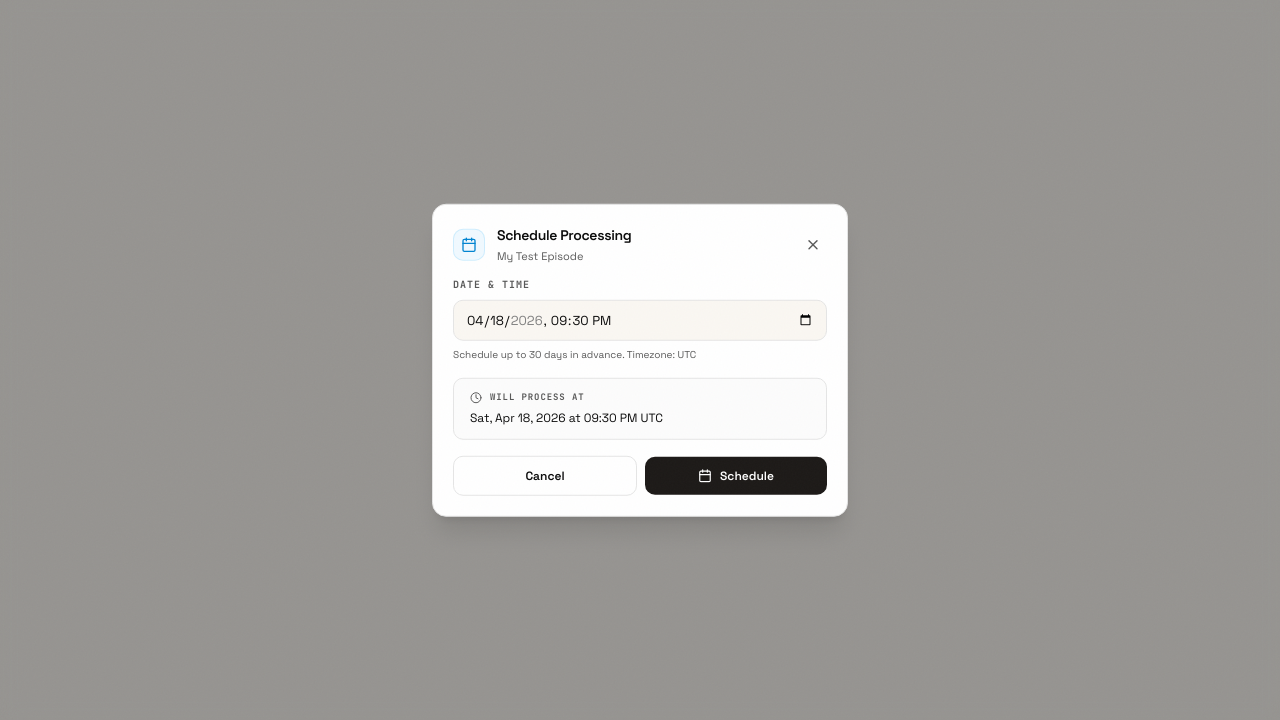
ScheduleDialog › error handling › shows error when scheduling fails
Click the button "Schedule".
click(736, 475)  # box [645,456,827,494]
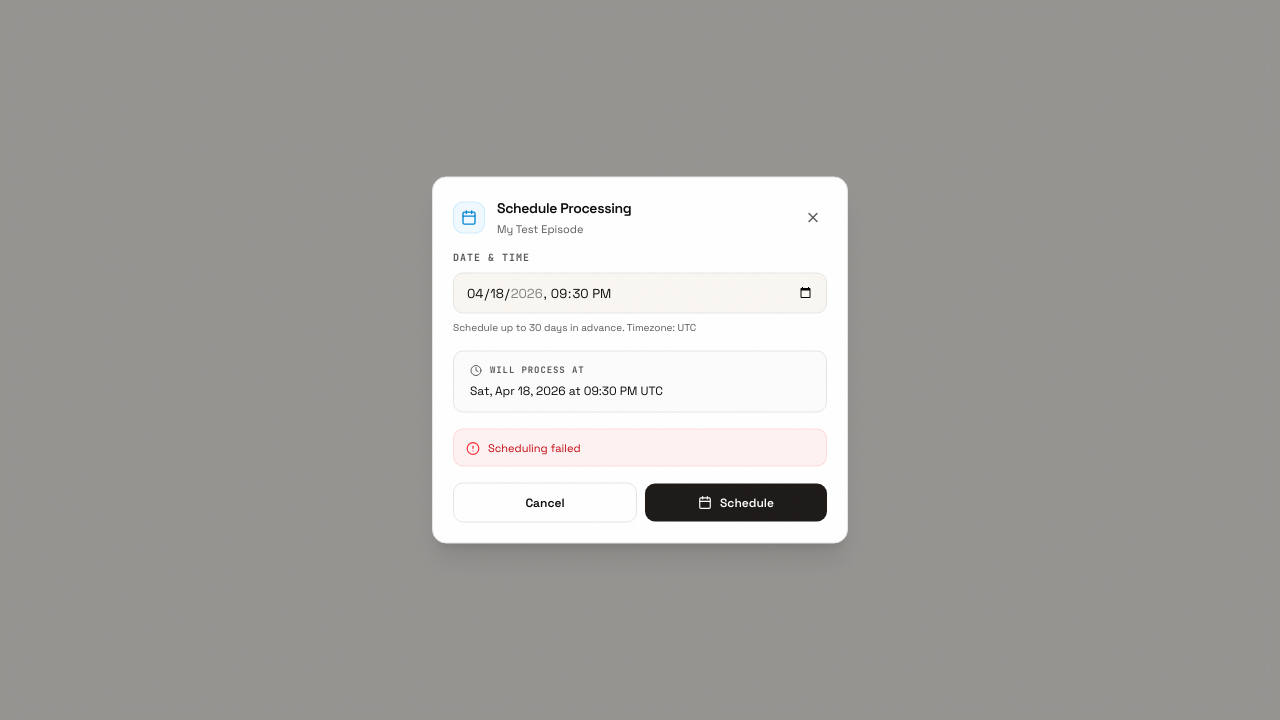
expect the text "Scheduling failed" is shown: met, box [488,439,580,456]
